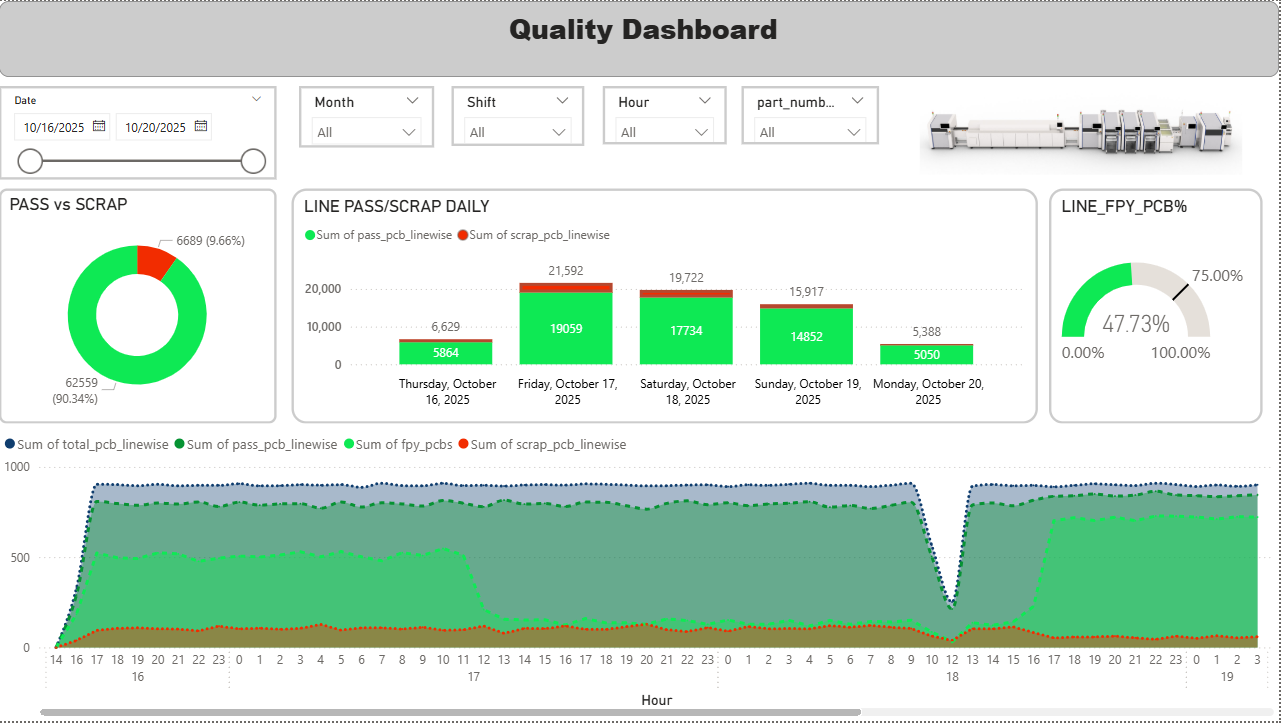

The page's visual inventory and layout, read from the dashboard file:
{"tool":"powerbi","page":{"name":"Line Quality","canvas":[1280,720],"ordinal":1},"visuals":[{"type":"textbox","box":[0,0,1280,76.2],"z":0},{"type":"donutChart","title":"PASS vs SCRAP ","fields":{"Y":["Sum(quality_linewise_datehour_fact.scrap_pcb_linewise)","Sum(quality_linewise_datehour_fact.pass_pcb_linewise)"]},"box":[0,187.5,277.5,235],"z":1000},{"type":"gauge","title":"LINE_FPY_PCB%","fields":{"Y":["quality_linewise_datehour_fact.AVG_FPY_PCB%_Linewise"]},"box":[1050,187.5,213.8,235],"z":2000},{"type":"columnChart","title":"LINE PASS/SCRAP DAILY","fields":{"Category":["date_hour_dim.Date"],"Y":["Sum(quality_linewise_datehour_fact.pass_pcb_linewise)","Sum(quality_linewise_datehour_fact.scrap_pcb_linewise)"]},"box":[292.5,187.5,746.2,235],"z":3000},{"type":"slicer","fields":{"Values":["date_hour_dim.Date"]},"box":[0,85,277.5,93.8],"z":4000},{"type":"slicer","fields":{"Values":["shift_dim.Shift"]},"box":[452.5,85,132.5,60],"z":5000},{"type":"slicer","fields":{"Values":["shift_dim.Hour"]},"box":[603.8,85,123.8,58.8],"z":6000},{"type":"slicer","fields":{"Values":["quality_linewise_datehour_fact.part_number"]},"box":[742.5,85,137.5,58.8],"z":7000},{"type":"slicer","fields":{"Values":["calendar_dim.Month"]},"box":[300,85,135,61.2],"z":8000},{"type":"areaChart","fields":{"Category":["date_hour_dim.date_hour.Variation.Date Hierarchy.Day","date_hour_dim.Hour"],"Y":["Sum(quality_linewise_datehour_fact.total_pcb_linewise)","Sum(quality_linewise_datehour_fact.pass_pcb_linewise)","Sum(quality_linewise_datehour_fact.fpy_pcbs)","Sum(quality_linewise_datehour_fact.scrap_pcb_linewise)"]},"box":[0,422.5,1280,297.5],"z":9000},{"type":"image","box":[900,85,363.8,93.8],"z":10000}]}

Visuals, with their boxes in screenshot pixels (x1, y1, x2, y2), scaled from the page's 1280x720 canvas onto the 1283x724 screenshot:
textbox: {"x1": 0, "y1": 0, "x2": 1282, "y2": 77}
"PASS vs SCRAP " donutChart: {"x1": 0, "y1": 189, "x2": 278, "y2": 425}
"LINE_FPY_PCB%" gauge: {"x1": 1052, "y1": 189, "x2": 1267, "y2": 425}
"LINE PASS/SCRAP DAILY" columnChart: {"x1": 293, "y1": 189, "x2": 1041, "y2": 425}
slicer - date_hour_dim.Date: {"x1": 0, "y1": 85, "x2": 278, "y2": 180}
slicer - shift_dim.Shift: {"x1": 454, "y1": 85, "x2": 586, "y2": 146}
slicer - shift_dim.Hour: {"x1": 605, "y1": 85, "x2": 729, "y2": 145}
slicer - quality_linewise_datehour_fact.part_number: {"x1": 744, "y1": 85, "x2": 882, "y2": 145}
slicer - calendar_dim.Month: {"x1": 301, "y1": 85, "x2": 436, "y2": 147}
areaChart - date_hour_dim.date_hour.Variation.Date Hierarchy.Day x date_hour_dim.Hour: {"x1": 0, "y1": 425, "x2": 1282, "y2": 723}
image: {"x1": 902, "y1": 85, "x2": 1267, "y2": 180}
